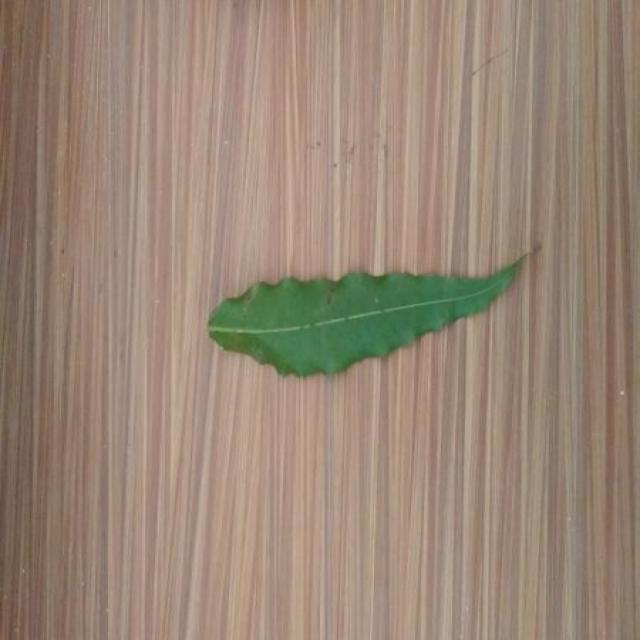ashoka: (208, 259, 522, 376)
defectedashoka: (208, 278, 308, 376)
